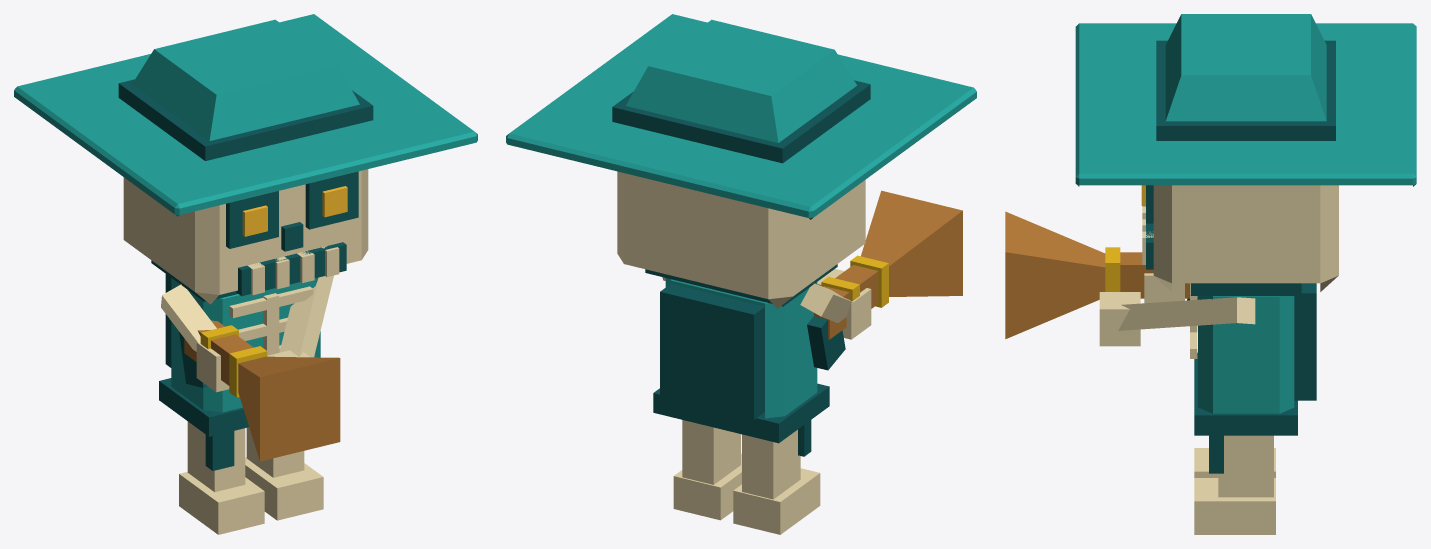
The model's file is shotgunner_r5.glb.
3 views of the same model, side by side, from view 1: azimuth 30°, elevation 25°; view 2: azimuth 150°, elevation 25°; view 3: azimuth 270°, elevation 25° (orthographic). The views are drawn at different scales.
Parts seen in each view (by area): view 1: shotgunner_r5_mesh; view 2: shotgunner_r5_mesh; view 3: shotgunner_r5_mesh.
Part boxes in pixels (box(x1,y1,x2,y2)): shotgunner_r5_mesh: box(14, 14, 477, 534); shotgunner_r5_mesh: box(506, 14, 976, 534); shotgunner_r5_mesh: box(1005, 14, 1416, 534).
Bounding box in the file's own units: 1.07 × 1.5 × 1.21.
1 material, 1 textured.
